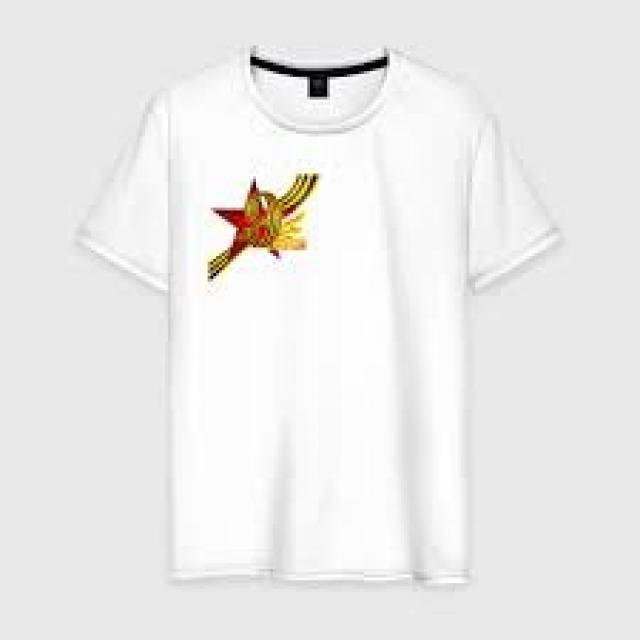Shirt: (75, 45, 568, 608)
